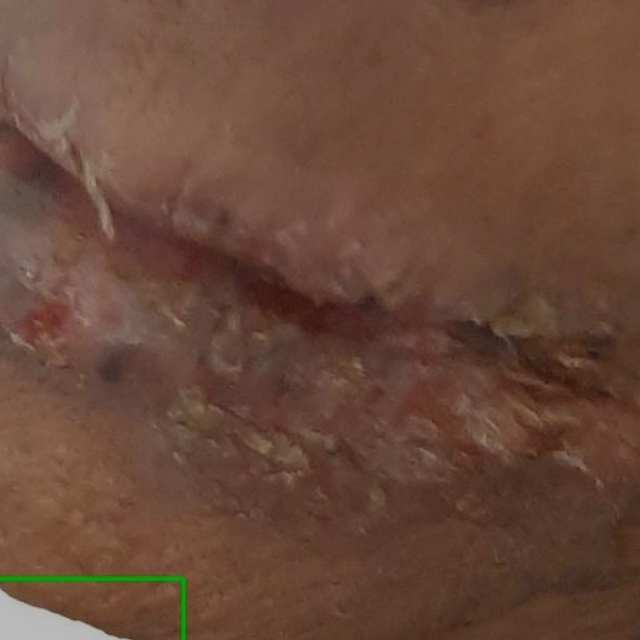Contact Dermatitis: (0, 578, 184, 639)
